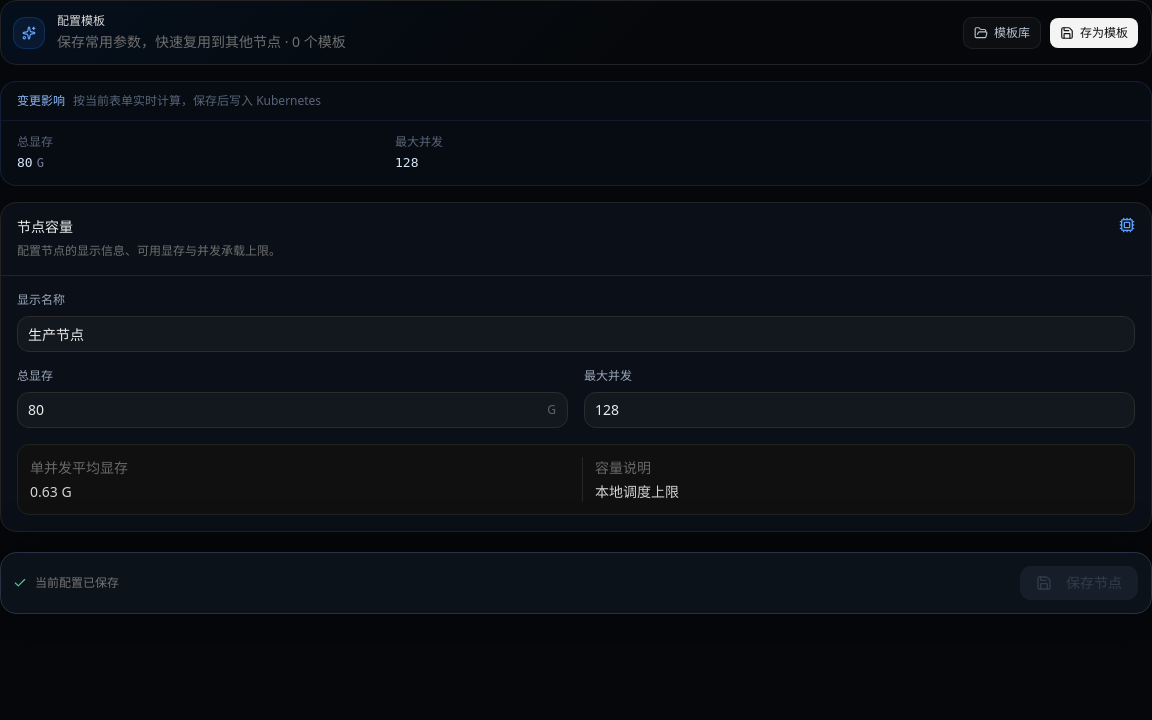
Test: NodeForm › 空名称提交展示校验错误
Step 1. Clear the field labelled "显示名称" → (576, 334), box [17,316,1135,352]
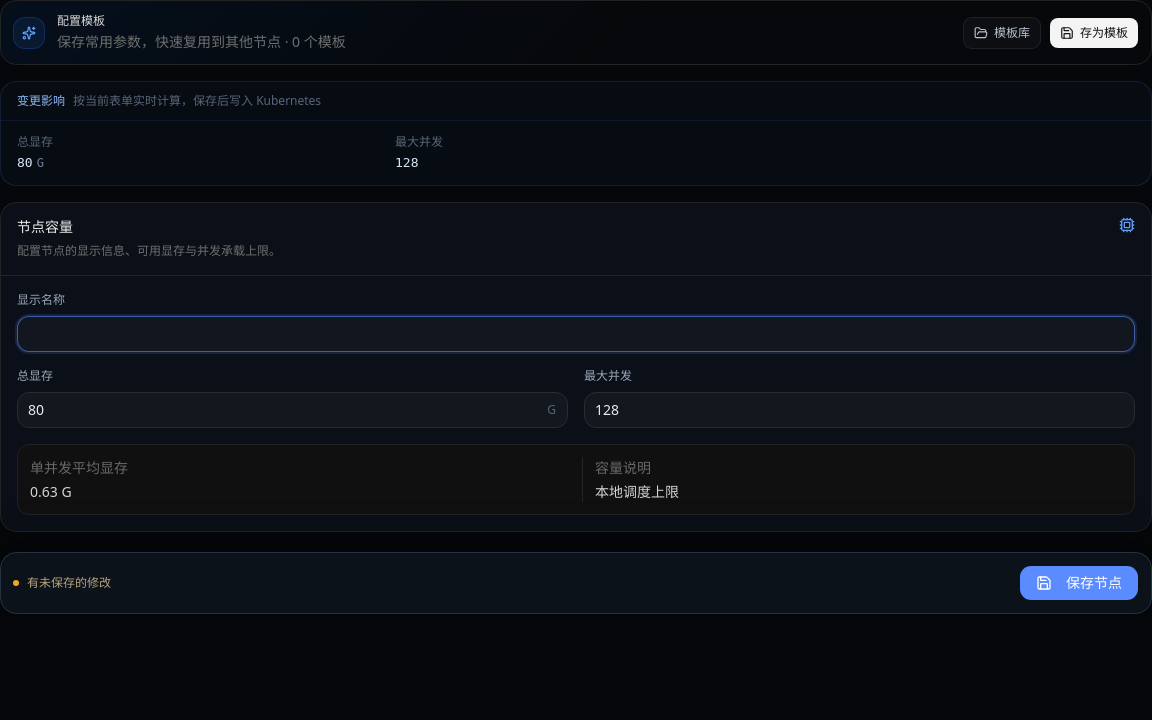
Step 2. Click the button "保存节点" → (1079, 582), box [1019,564,1139,600]
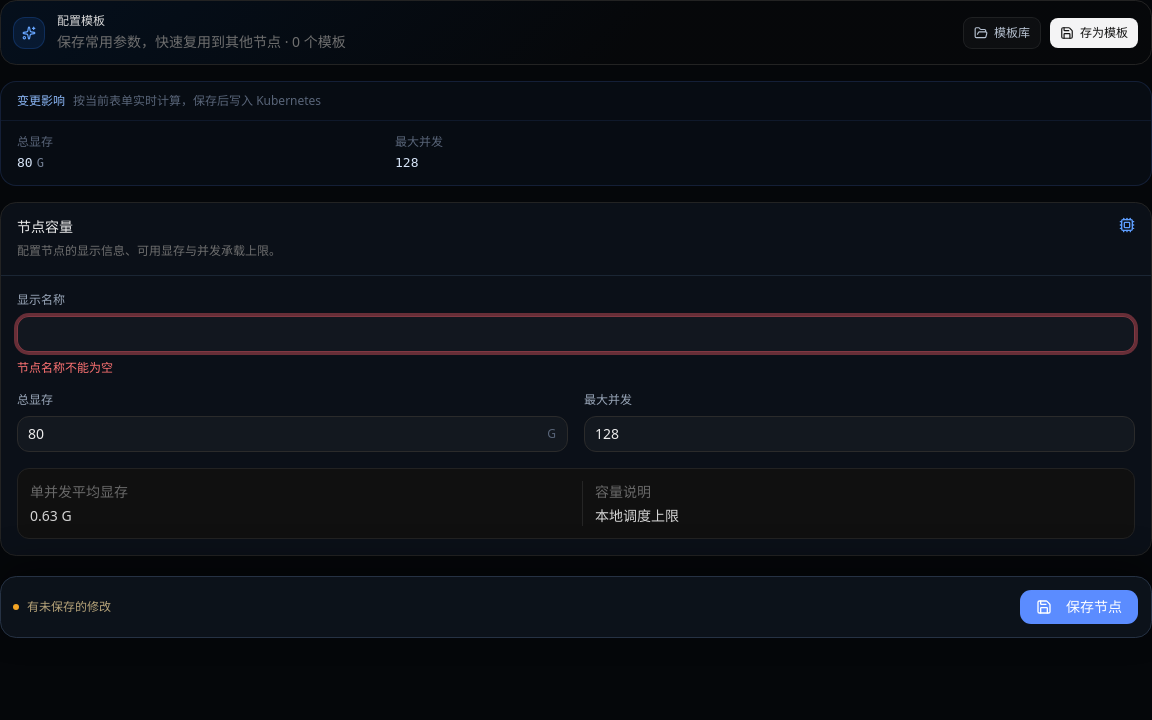
Expected: the text "节点名称不能为空" is shown, [17,358,113,376]
